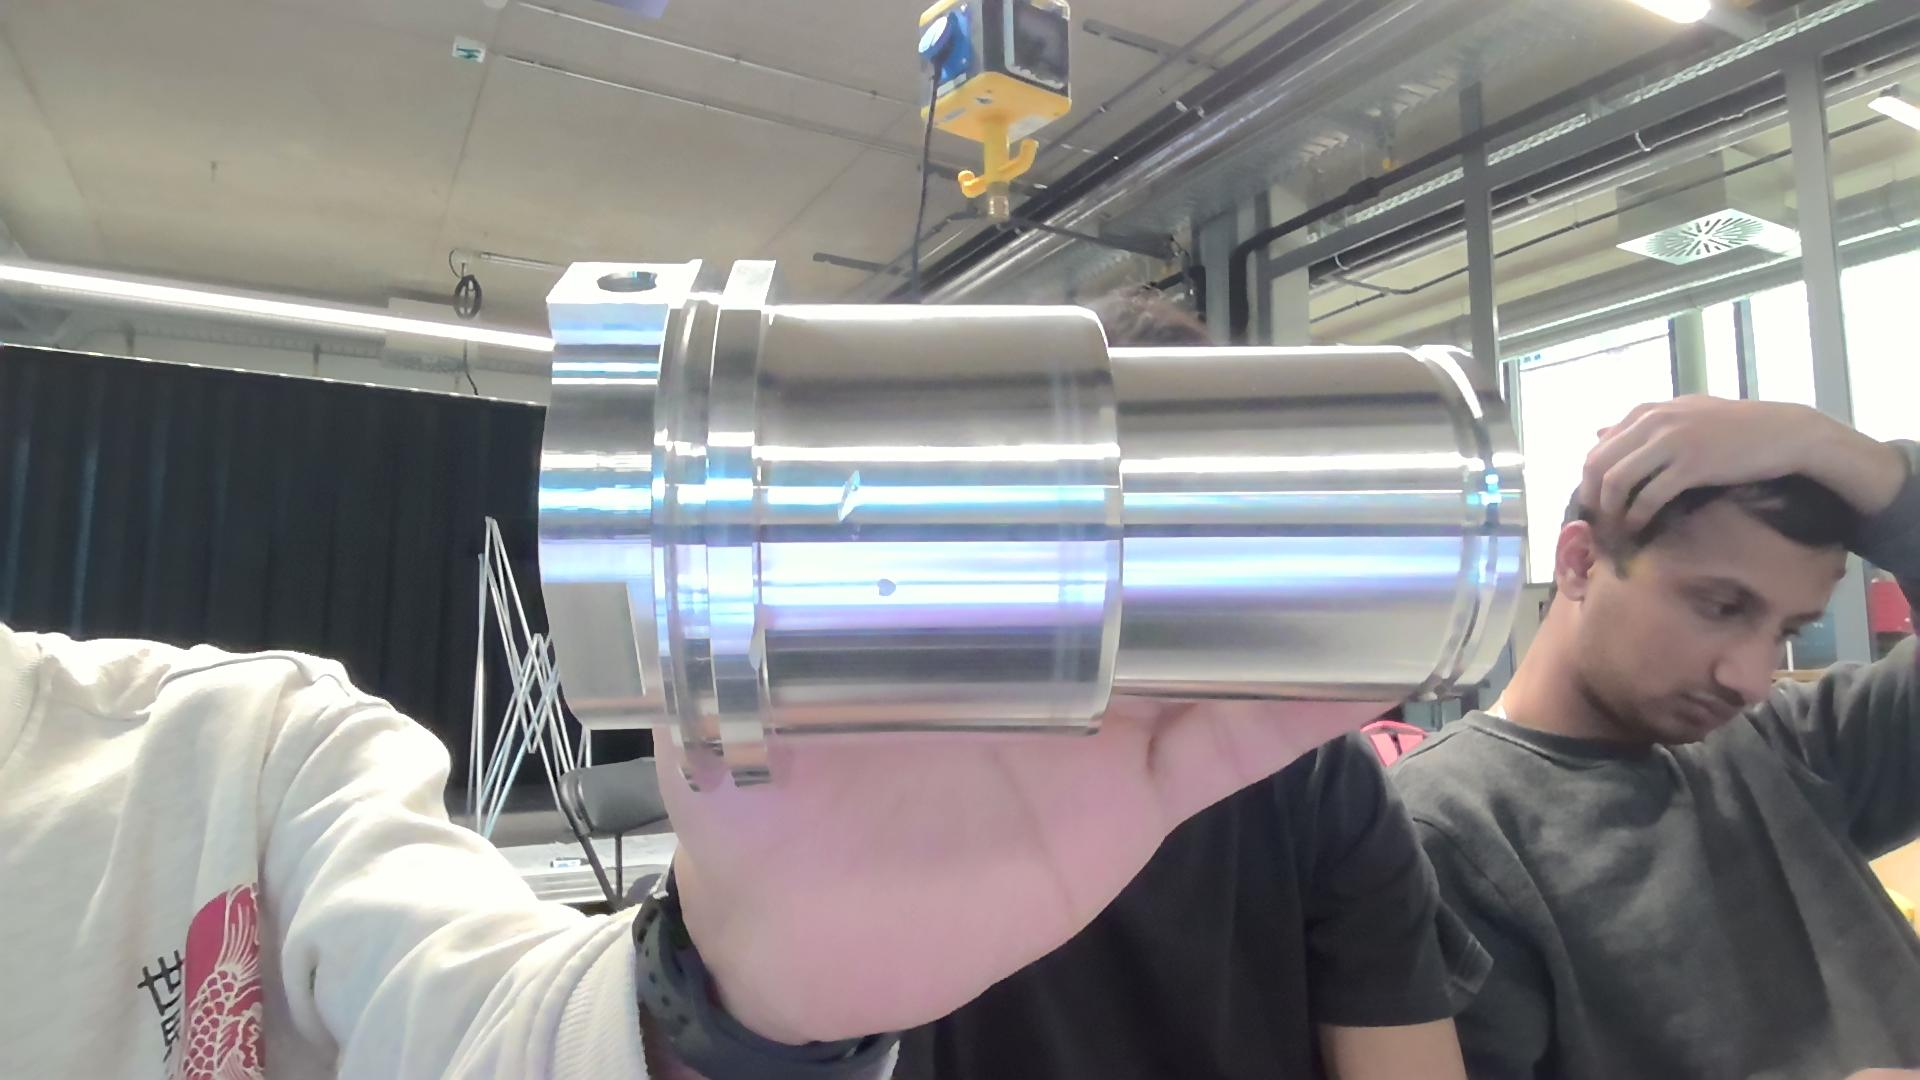damage: (828, 462, 870, 529), (873, 576, 905, 607)
objects: (527, 255, 1551, 757)
